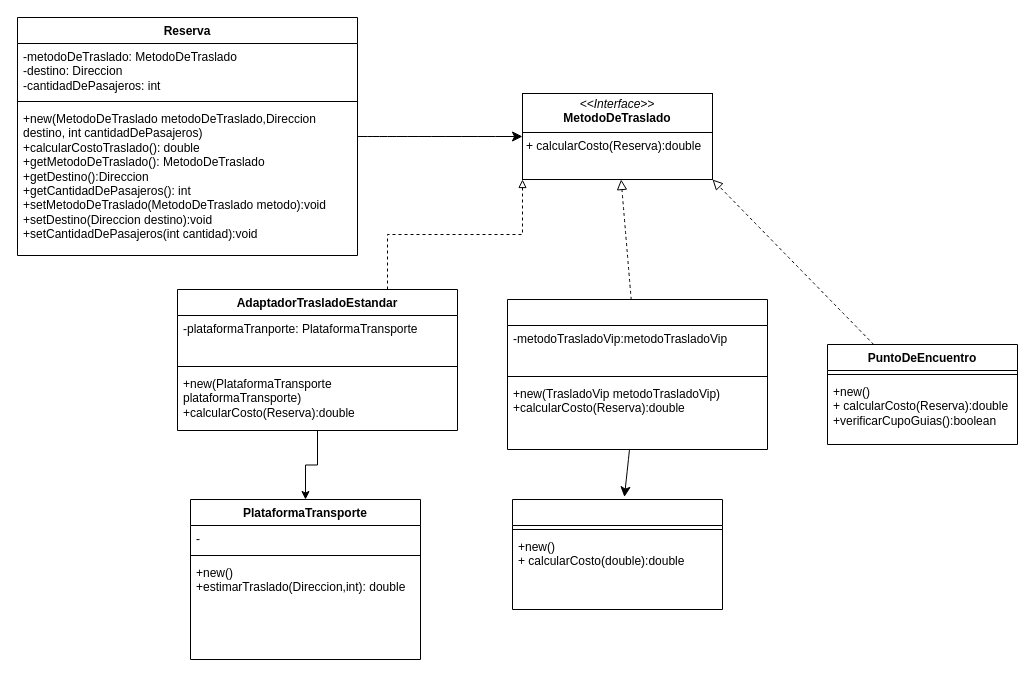
Image size: 1035x680. Some labels were removed from this diagram. The shapes that lost their labels are listed below. From the top down, each one's box as (x1, y1, x2, y2) in pixels, then its label:
(506, 298, 768, 450): AdaptadorTrasladoVip
(512, 498, 722, 610): TrasladoVip
